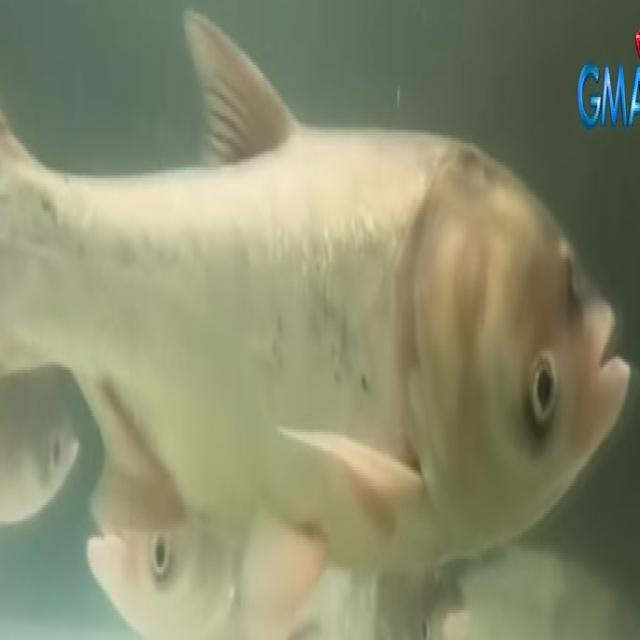Big-Head-Carp: (9, 18, 636, 603)
